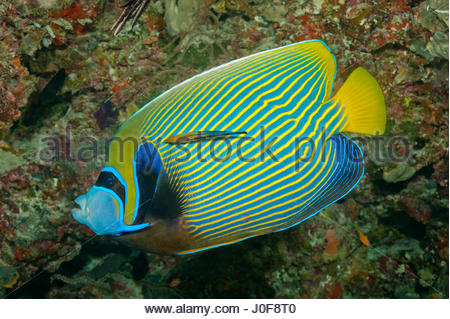Pomacanthus_imperator: (68, 36, 389, 266)
